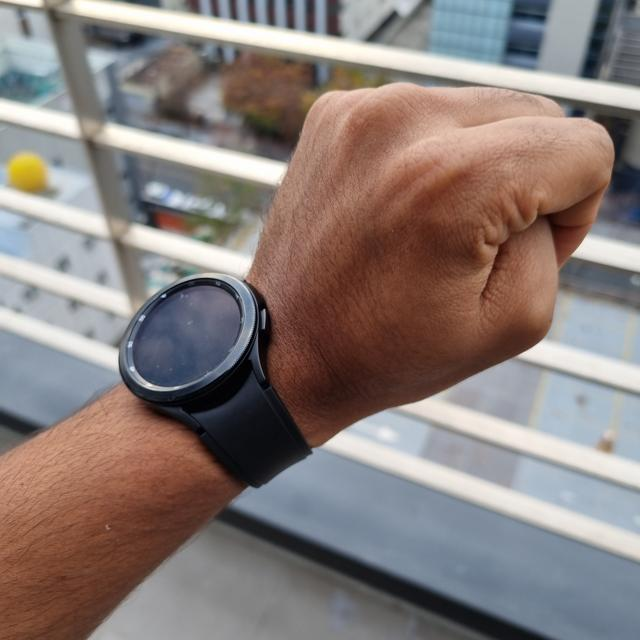Rock: (247, 84, 608, 439)
